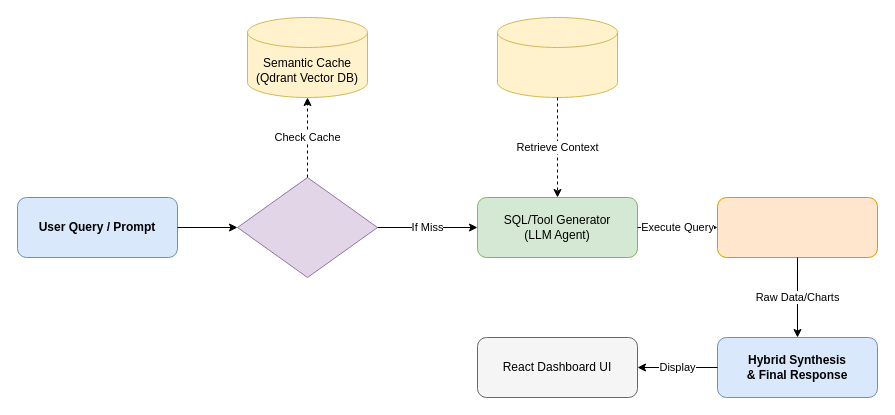
The diagram is 895 pixels wide and 415 high, and some of its shapes have lost their labels. The centre of each missing label's shape, as x and y in pixels:
Execution Tools (BigQuery / Superset): the point at 797,227
Intent Router (LangGraph): the point at 307,227
Schema Metadata (Qdrant Vector DB): the point at 557,57
